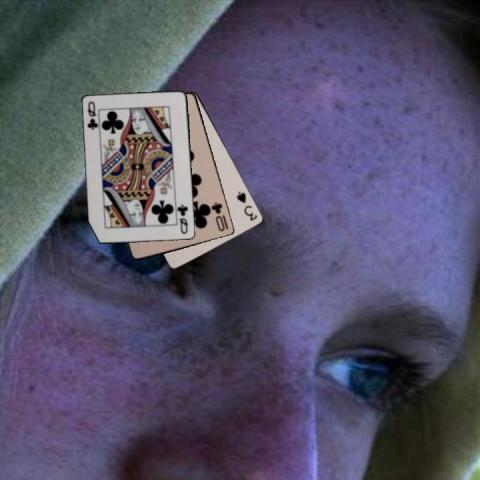10c: (209, 199, 230, 233)
3s: (234, 189, 259, 222)
Qc: (176, 202, 190, 236), (85, 99, 99, 131)
